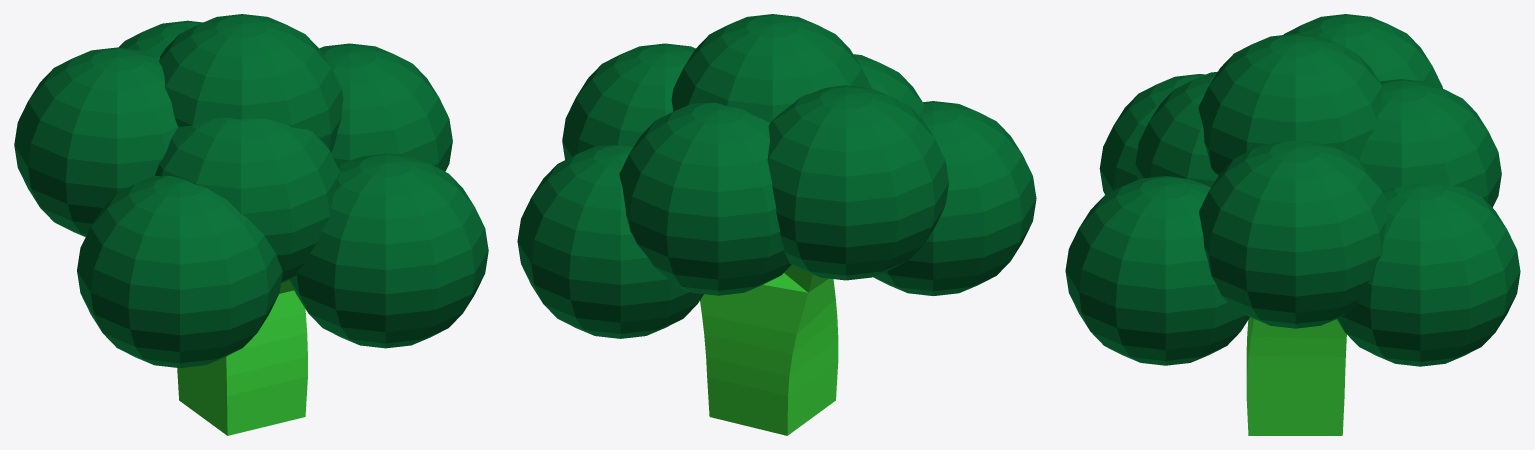
Rendered from Azka Ghafara_140810200037_Brocoli1.fbx.
3 renders of one model, left to right at view 1: azimuth 30°, elevation 25°; view 2: azimuth 150°, elevation 25°; view 3: azimuth 270°, elevation 25°, orthographic. The views are drawn at different scales.
Visible parts, largest first — view 1: Sphere, Cube; view 2: Sphere, Cube; view 3: Sphere, Cube.
Part boxes in pixels (left/top/right/bottom): Sphere: left=14, top=14, right=488, bottom=367; Cube: left=177, top=280, right=307, bottom=435; Sphere: left=517, top=14, right=1036, bottom=338; Cube: left=700, top=265, right=838, bottom=435; Sphere: left=1065, top=14, right=1520, bottom=366; Cube: left=1246, top=317, right=1346, bottom=435.
Size of the model in its own units: 370 by 342 by 377.
